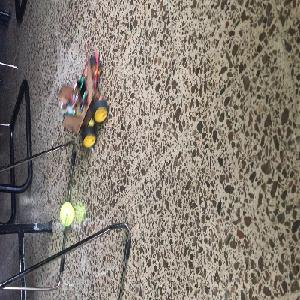Ball: (58, 203, 74, 226)
Robot: (58, 50, 108, 147)
